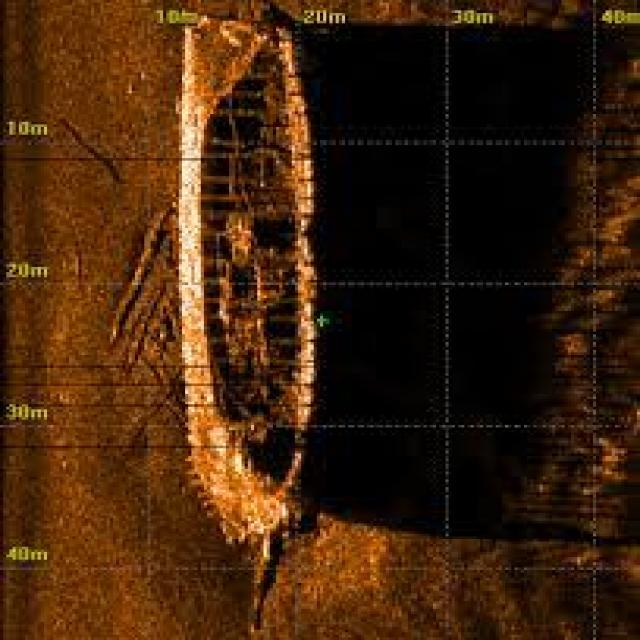ship: (173, 13, 320, 552)
